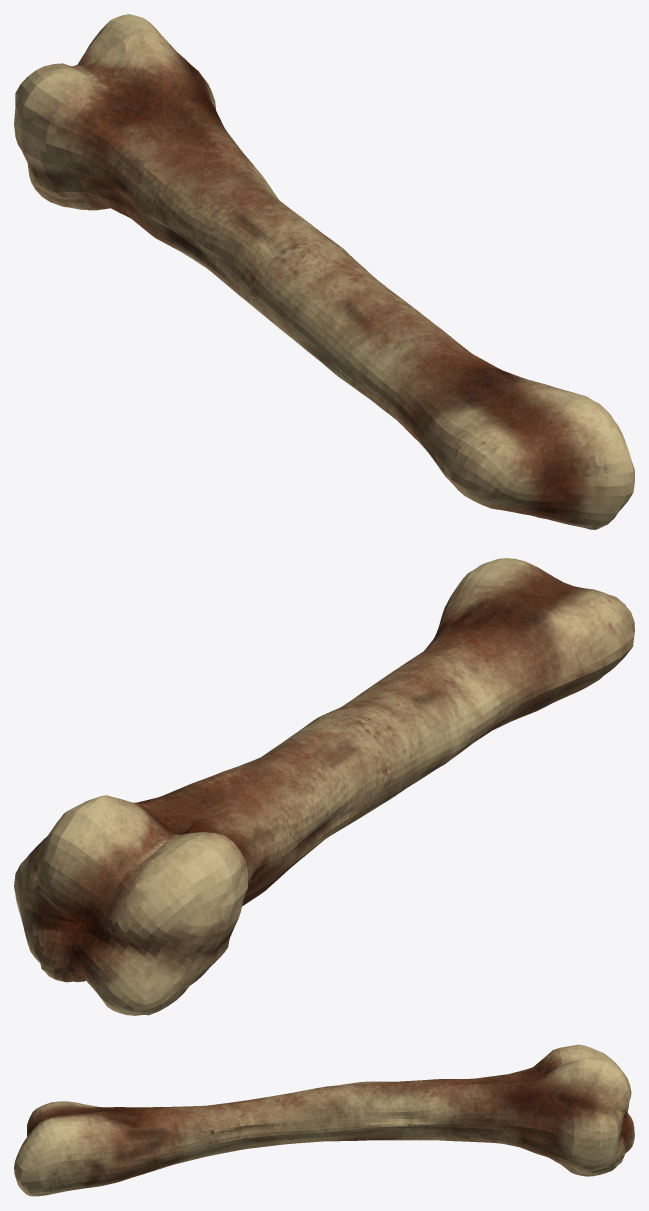
The model's file is bone.obj.
3 views of the same model, one above another, from view 1: azimuth 30°, elevation 25°; view 2: azimuth 150°, elevation 25°; view 3: azimuth 270°, elevation 25° (orthographic). The views are drawn at different scales.
Visible parts, largest first — view 1: Mesh_0.001_Mesh_0.001_BoneTranspherlambert3SG; view 2: Mesh_0.001_Mesh_0.001_BoneTranspherlambert3SG; view 3: Mesh_0.001_Mesh_0.001_BoneTranspherlambert3SG.
Part boxes in pixels (x1=…): Mesh_0.001_Mesh_0.001_BoneTranspherlambert3SG: x1=14, y1=14, x2=634, y2=529; Mesh_0.001_Mesh_0.001_BoneTranspherlambert3SG: x1=14, y1=558, x2=634, y2=1015; Mesh_0.001_Mesh_0.001_BoneTranspherlambert3SG: x1=14, y1=1044, x2=634, y2=1196.
Bounding box in the file's own units: 0.1416 × 0.1399 × 0.6144.
1 material, 1 textured.
